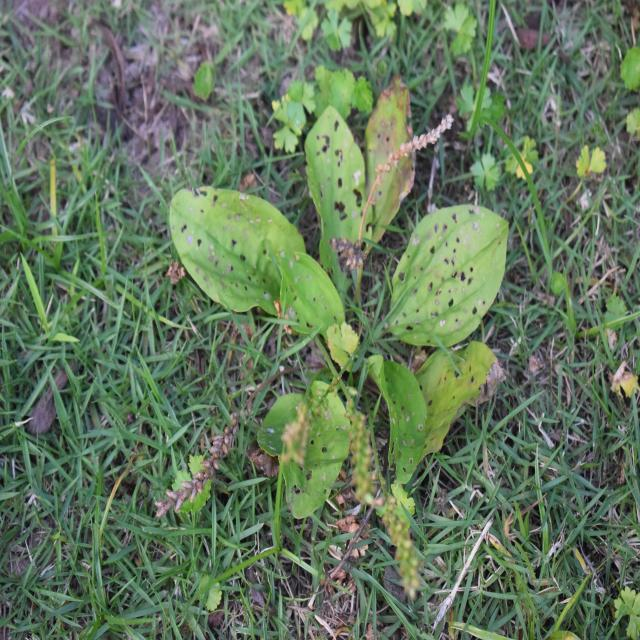plantain: (168, 96, 504, 467)
